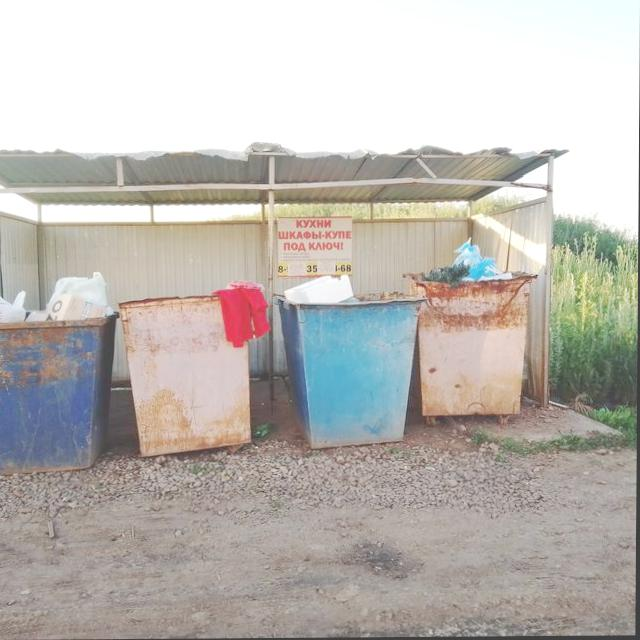Trash_Can_Full: (119, 286, 268, 457), (0, 271, 120, 476), (279, 275, 419, 448), (409, 237, 540, 417)
